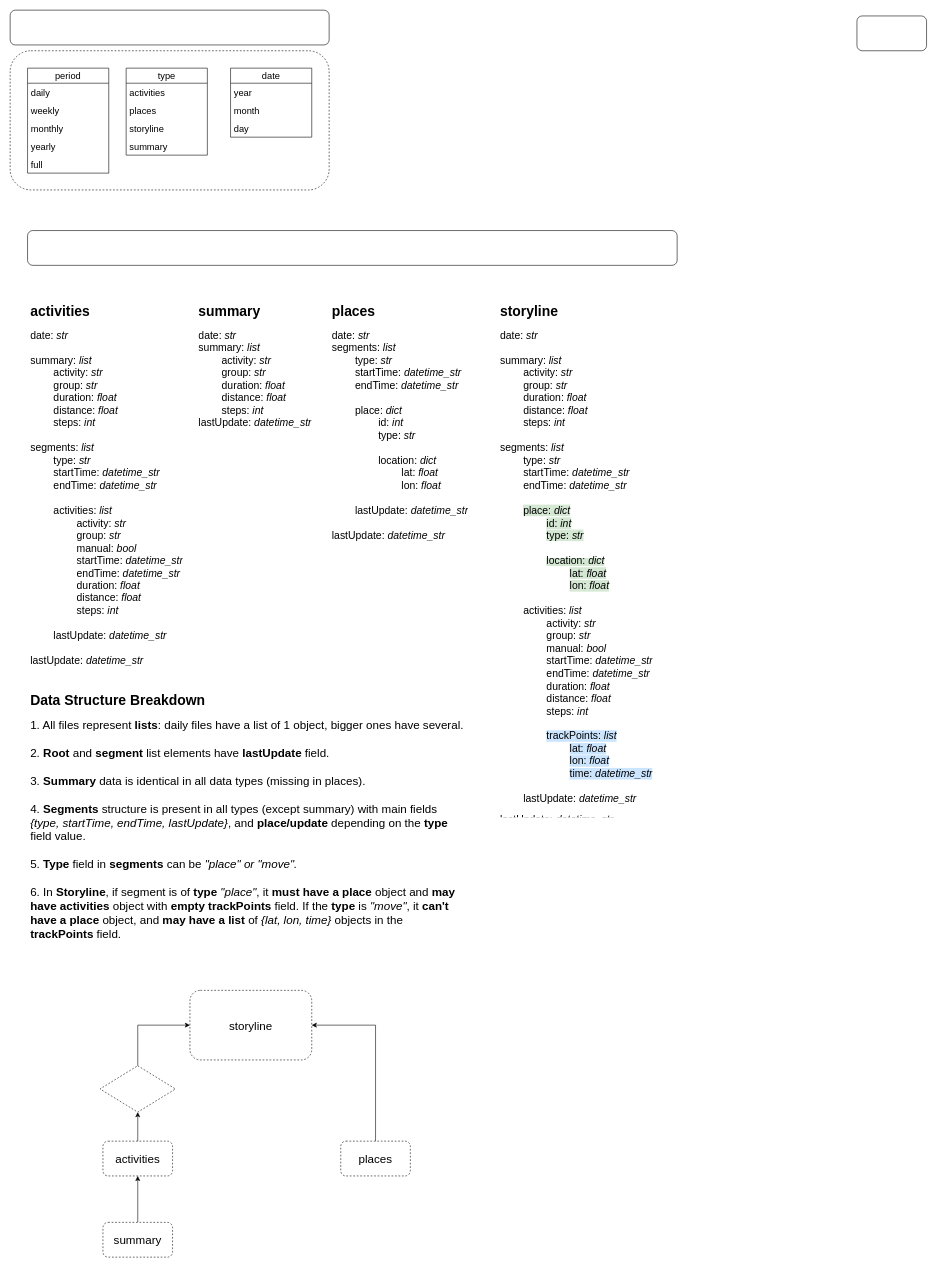
The diagram is 937 pixels wide and 1267 high, and some of its shapes have lost their labels. Here are the shapes that lost their labels. From the top down, the centre of each, then its label:
(x=169, y=27): Main Data Attributes
(x=891, y=33): API Endpoints
(x=352, y=247): Data Types Structure
(x=137, y=1088): +trackPoints
